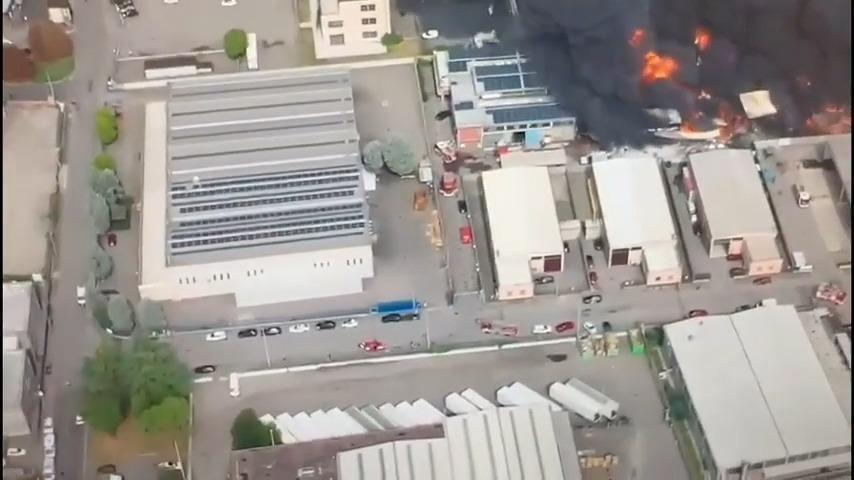fire: (606, 22, 739, 143)
